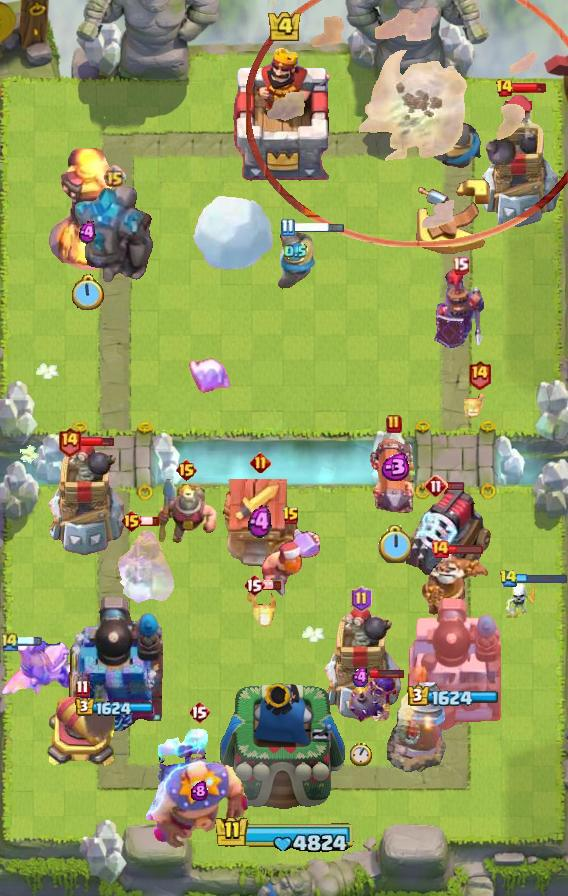bandit: (153, 478, 219, 546)
barbarian-hut: (104, 526, 184, 606)
battle-healer: (369, 439, 419, 521)
cannoneer-tower: (72, 187, 156, 285)
clock: (210, 814, 358, 856)
electro-dragon: (47, 145, 127, 273)
electro-spirit: (377, 453, 411, 481), (248, 505, 272, 539), (285, 241, 308, 263), (351, 667, 371, 688), (80, 221, 97, 244), (192, 781, 209, 801)
elixir: (70, 274, 104, 314), (377, 525, 411, 563), (350, 742, 372, 766)
elixir-collector: (421, 547, 491, 619)
elixir-golem-big: (433, 269, 487, 353)
emote: (292, 221, 346, 234), (516, 572, 568, 583), (79, 436, 115, 449), (6, 635, 43, 647), (511, 82, 547, 94), (371, 667, 406, 679), (448, 544, 484, 555), (140, 515, 160, 527), (262, 581, 281, 592), (446, 481, 466, 491)
firecracker: (421, 121, 484, 169), (277, 232, 316, 290)
freeze: (0, 639, 82, 713)
goblin-ball: (347, 671, 401, 727)
golem: (406, 485, 492, 575)
heal-spirit: (505, 582, 537, 618)
ice-spirit-evolution: (247, 587, 285, 629), (463, 388, 495, 420)
king-tower: (219, 678, 349, 826), (229, 43, 339, 181)
little-prince: (146, 722, 252, 850)
magic-archer: (387, 681, 447, 773)
mighty-miner: (259, 529, 323, 599)
mirror: (187, 355, 233, 397)
royal-ghost: (246, 0, 568, 248)
royal-recruit: (46, 697, 118, 771)
selected: (407, 684, 499, 708), (74, 697, 154, 717)
sparky: (217, 478, 303, 576)
text: (467, 359, 492, 390), (57, 427, 82, 458), (424, 474, 448, 498), (351, 586, 373, 612), (175, 458, 198, 482), (120, 509, 143, 533), (102, 165, 125, 188), (243, 573, 265, 597), (188, 700, 210, 724), (249, 451, 270, 473), (0, 631, 20, 653), (494, 78, 514, 98), (430, 539, 450, 559), (498, 568, 517, 587), (282, 506, 300, 526), (451, 257, 469, 275), (386, 414, 402, 434), (280, 218, 295, 237), (75, 679, 89, 697)
tower-bar: (65, 593, 163, 731), (405, 595, 501, 731)
wall-breaker: (192, 194, 276, 272)
zappy: (477, 92, 564, 230), (40, 441, 131, 557), (317, 606, 407, 722)
